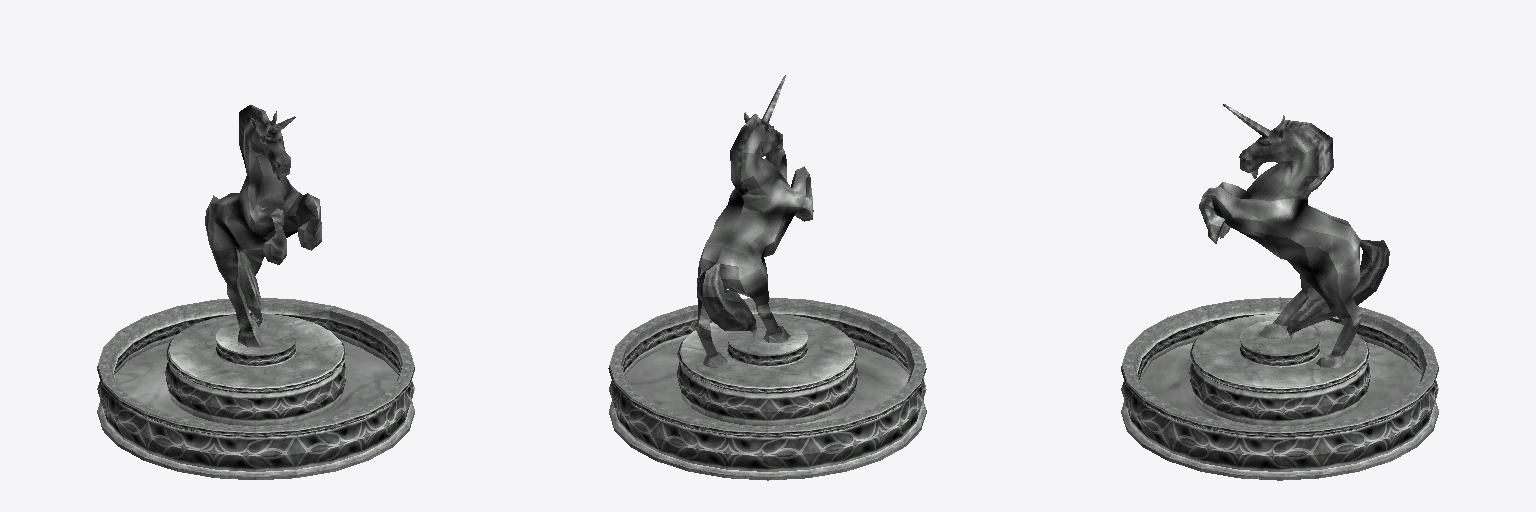
The picture shows the model from 3 angles: view 1: azimuth 30°, elevation 25°; view 2: azimuth 150°, elevation 25°; view 3: azimuth 270°, elevation 25°; orthographic projection.
Parts seen in each view (by area): view 1: rg_57_0, rg_57_1; view 2: rg_57_0, rg_57_1; view 3: rg_57_0, rg_57_1.
Part boxes in pixels (x1,y1,x2,y2): rg_57_0: (97,298,414,479); rg_57_1: (205,105,321,346); rg_57_0: (608,297,926,480); rg_57_1: (695,75,813,367); rg_57_0: (1121,297,1438,480); rg_57_1: (1199,104,1389,368).
Bounding box in the file's own units: 1.35 × 1.47 × 1.35.
2 materials, 2 textured.